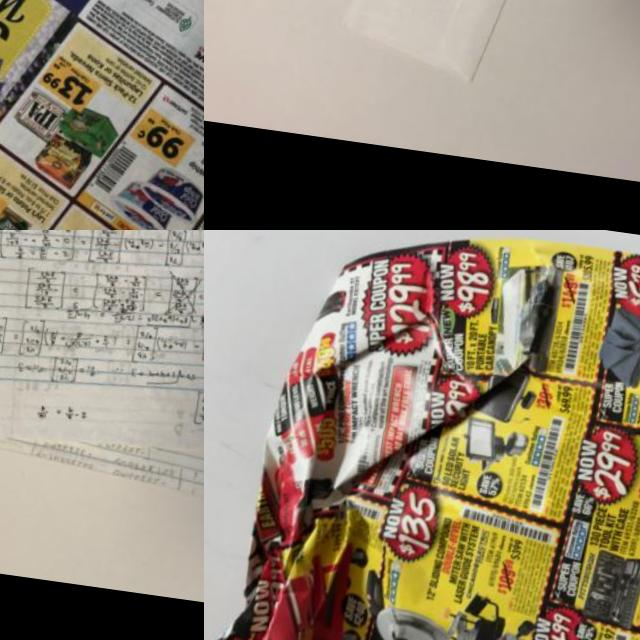papel: (205, 230, 640, 640), (0, 230, 204, 515), (0, 0, 204, 230), (341, 0, 602, 92)
